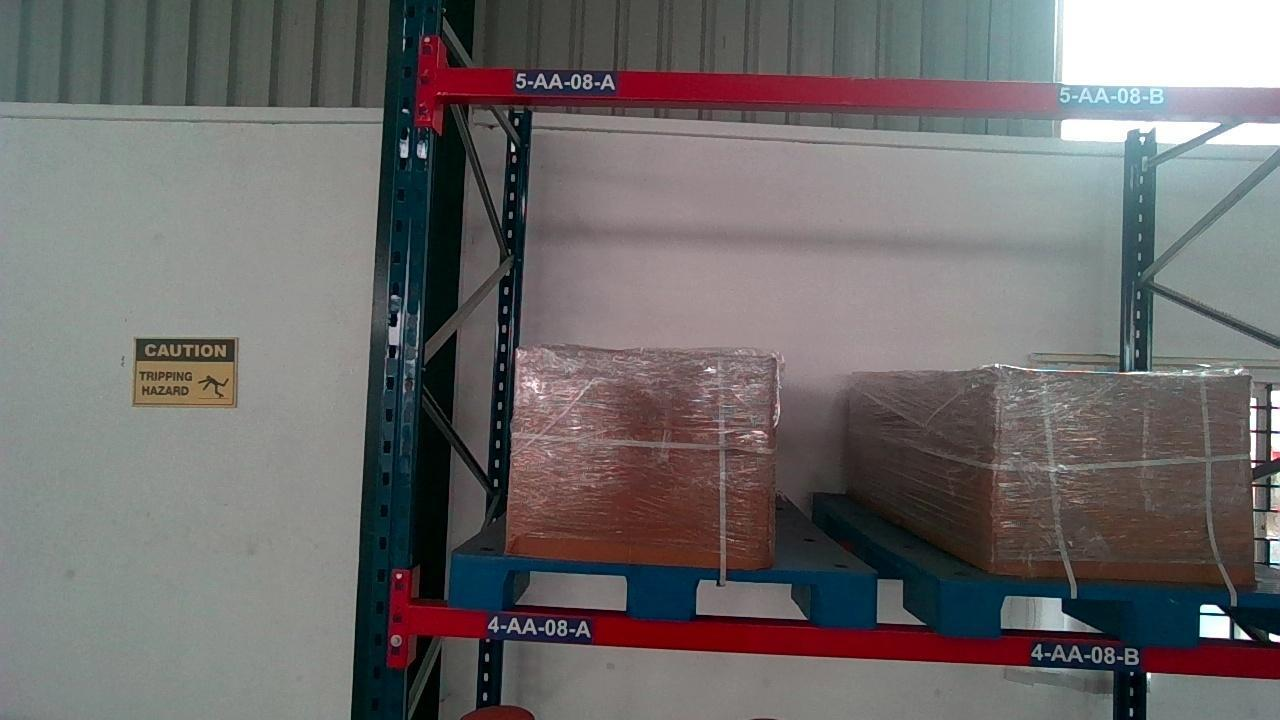h_rack: (411, 612, 1280, 667), (438, 70, 1082, 109), (1047, 80, 1280, 117)
small_pallet: (446, 556, 884, 624), (955, 579, 1280, 640), (1047, 82, 1279, 115)
